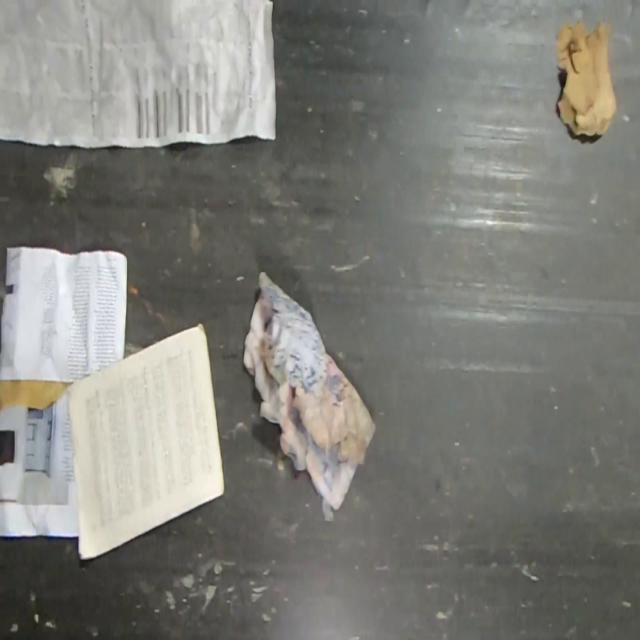cardboard: (557, 19, 620, 138)
